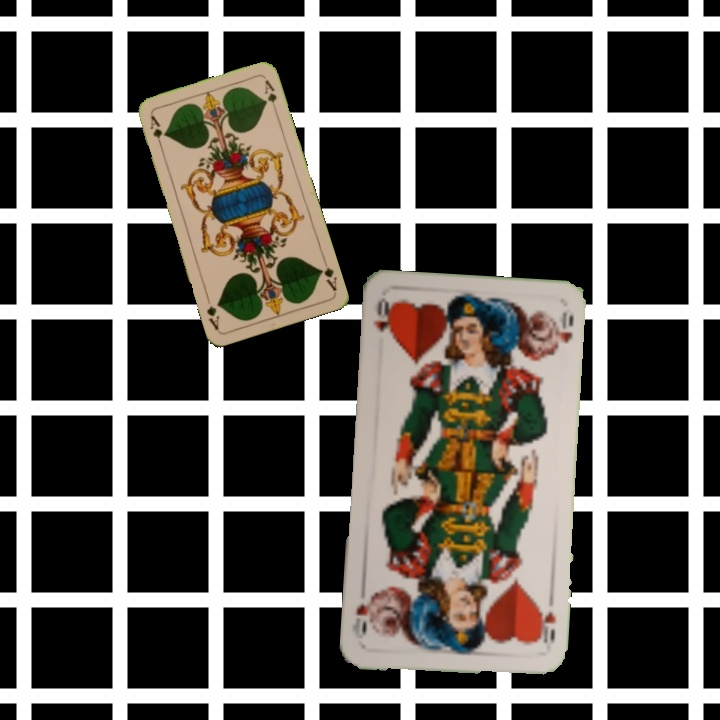GA: (315, 254, 339, 294), (146, 112, 166, 151)
HO: (533, 601, 558, 647), (369, 294, 394, 338)
